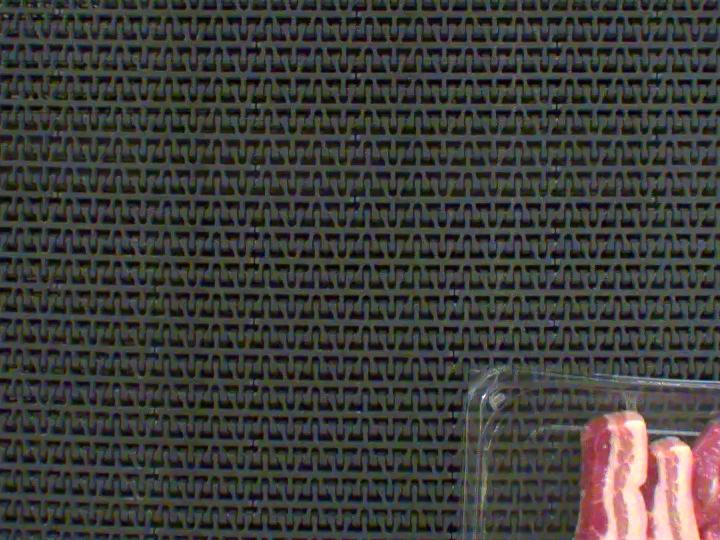packaging-error: (614, 380, 644, 414)
